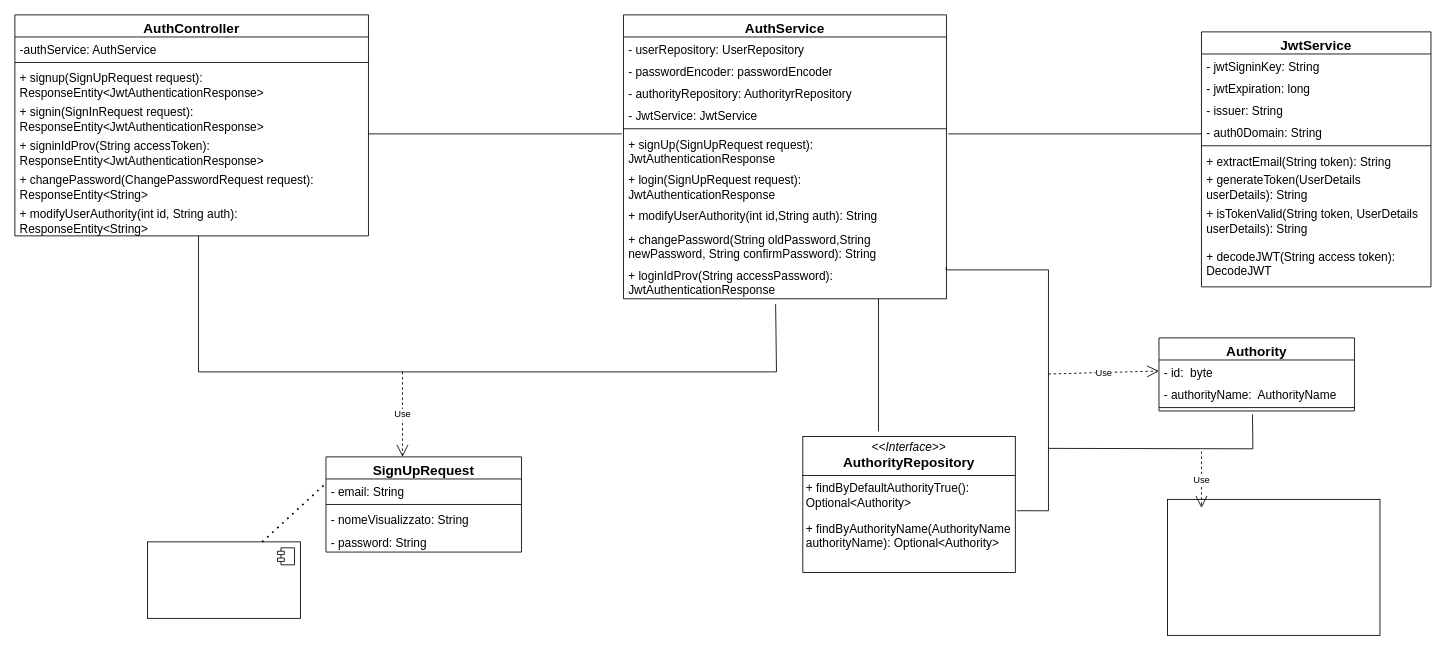
Image size: 1446x650. Some labels were removed from this diagram. The centre of each missing label's shape, as x and y in pixels:
<<Enumeration>> AuthorityName MANAGER MEMBER AGENT: the point at 1273,567
Metodi get e set automatici grazie alla libreria lombok: the point at 223,579
